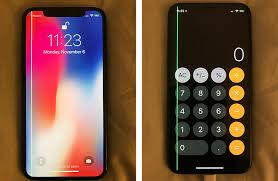iphone: (22, 5, 106, 178)
iphone10: (22, 5, 106, 178)
